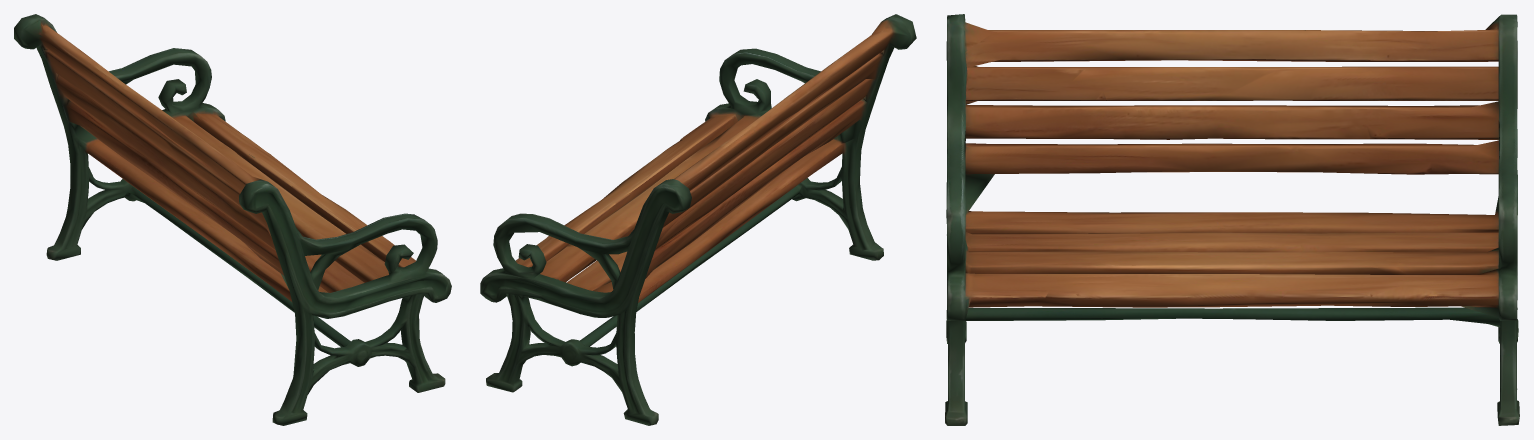
Rendered from tripo_convert_87d5cd8a-197e-4da7-8041-323aee151c29.glb.
3 views of the same model, side by side, from view 1: azimuth 30°, elevation 25°; view 2: azimuth 150°, elevation 25°; view 3: azimuth 270°, elevation 25° (orthographic). The views are drawn at different scales.
Parts seen in each view (by area): view 1: tripo_node_87d5cd8a-197e-4da7-8041-323aee151c29; view 2: tripo_node_87d5cd8a-197e-4da7-8041-323aee151c29; view 3: tripo_node_87d5cd8a-197e-4da7-8041-323aee151c29.
Part boxes in pixels (x1=…): tripo_node_87d5cd8a-197e-4da7-8041-323aee151c29: x1=14, y1=14, x2=451, y2=425; tripo_node_87d5cd8a-197e-4da7-8041-323aee151c29: x1=480, y1=14, x2=916, y2=425; tripo_node_87d5cd8a-197e-4da7-8041-323aee151c29: x1=945, y1=14, x2=1519, y2=425.
Bounding box in the file's own units: 0.4969 × 0.5677 × 0.9818.
Materials: 1 (1 with a texture image).
